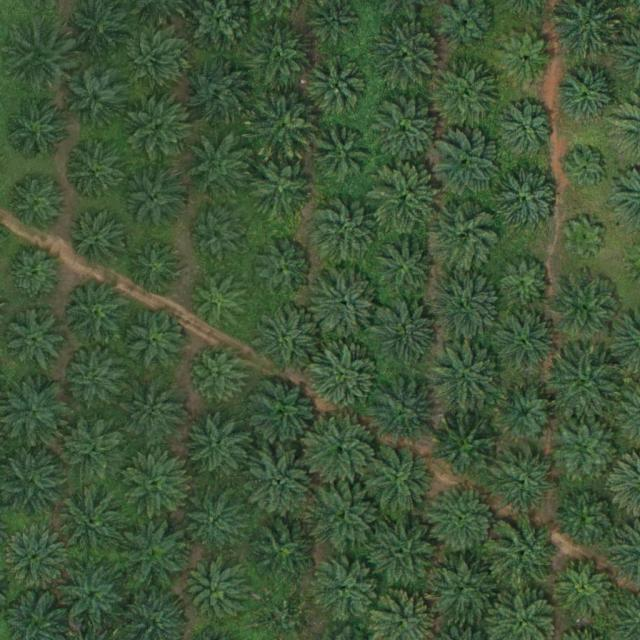Healthy: (370, 97, 441, 168), (369, 162, 440, 233), (370, 237, 441, 308), (251, 303, 322, 374), (247, 516, 318, 587), (426, 556, 497, 627), (6, 21, 76, 92), (63, 63, 133, 134), (184, 57, 254, 128), (249, 27, 319, 98), (554, 59, 625, 129), (551, 274, 621, 345), (551, 350, 621, 421), (494, 166, 564, 237), (490, 310, 560, 381), (431, 129, 501, 200), (429, 201, 499, 272), (431, 272, 502, 342), (371, 301, 441, 372), (368, 375, 438, 446), (434, 412, 504, 483), (312, 196, 382, 267), (312, 269, 382, 340), (309, 345, 379, 416), (247, 92, 317, 163), (246, 378, 317, 448), (184, 135, 254, 206), (123, 95, 193, 166), (122, 377, 192, 448), (58, 487, 128, 558), (57, 559, 127, 630), (121, 449, 191, 520), (120, 521, 190, 592), (245, 450, 316, 520), (306, 416, 376, 487), (309, 481, 379, 552), (362, 445, 432, 516), (429, 486, 499, 557), (490, 519, 560, 590), (374, 23, 444, 93), (430, 59, 500, 129), (432, 344, 502, 414), (120, 307, 190, 377), (62, 280, 132, 350), (310, 555, 380, 625), (369, 518, 439, 588), (310, 124, 373, 187), (4, 306, 67, 369), (2, 526, 65, 589), (557, 418, 620, 481), (125, 30, 188, 92), (307, 56, 369, 119), (495, 384, 557, 447), (250, 160, 312, 223), (250, 242, 313, 304), (187, 269, 250, 331), (65, 140, 127, 203), (63, 348, 125, 411), (6, 97, 68, 160), (7, 169, 69, 232), (64, 417, 126, 480), (188, 413, 250, 476), (181, 491, 243, 554), (187, 566, 249, 629), (497, 449, 559, 512), (558, 487, 620, 550), (123, 170, 185, 232), (557, 559, 619, 621), (499, 32, 554, 87), (499, 104, 554, 159), (498, 254, 553, 309), (188, 211, 243, 266), (70, 216, 125, 271), (9, 246, 64, 301), (193, 348, 247, 403), (125, 241, 179, 296)
Small: (565, 219, 605, 259), (568, 150, 608, 189)
